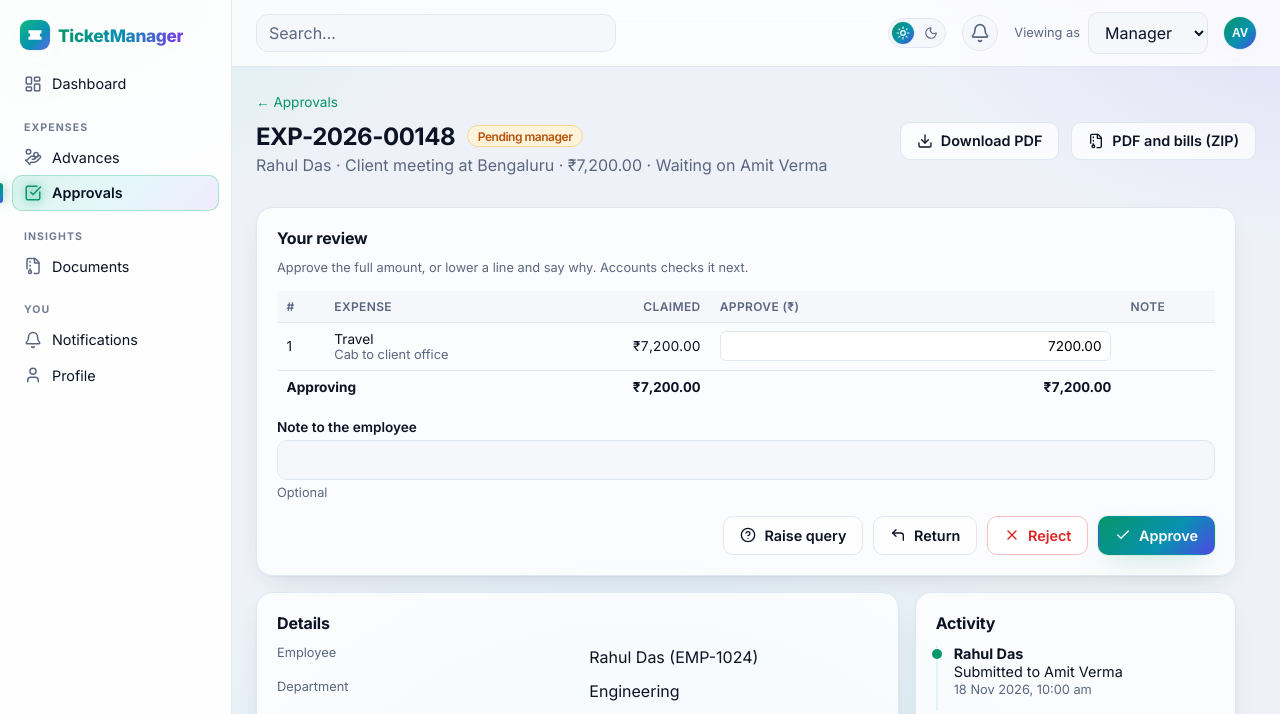
Scenario: Approvals › approves a lower amount with a note
Replace the text in the field named "Approved amount for line 1" with "5000" at (915, 346), box [720,331,1111,362]
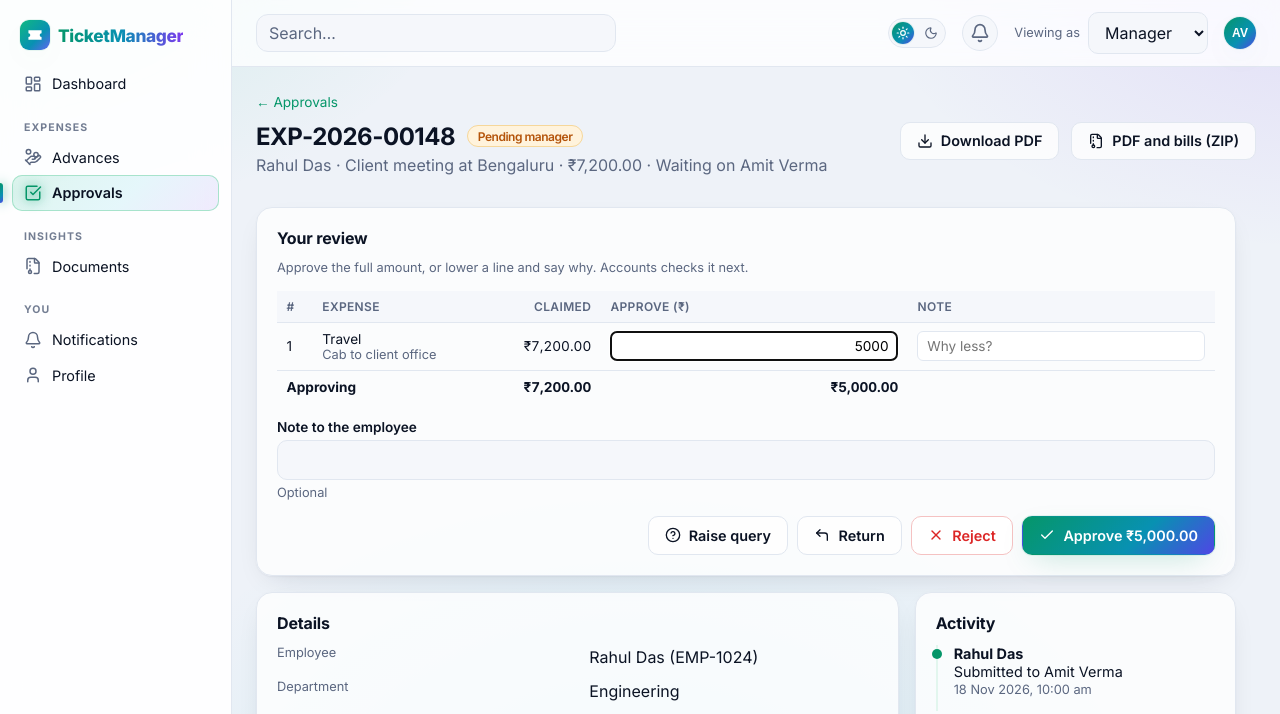
Type "Cab capped" into the field named "Why line 1 is reduced".
click(1061, 346); type("Cab capped")  # box [918,331,1205,362]
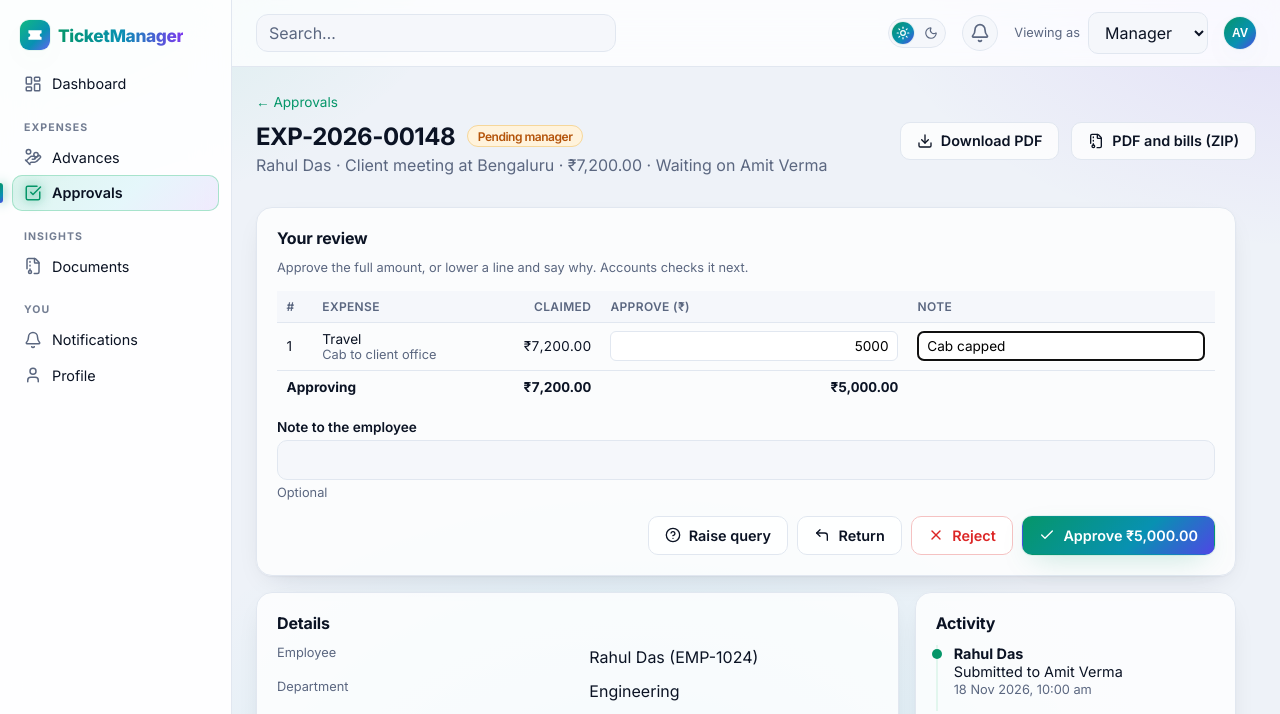
Click the button "Approve ₹5,000.00".
click(1119, 536)  # box [1022,516,1215,555]
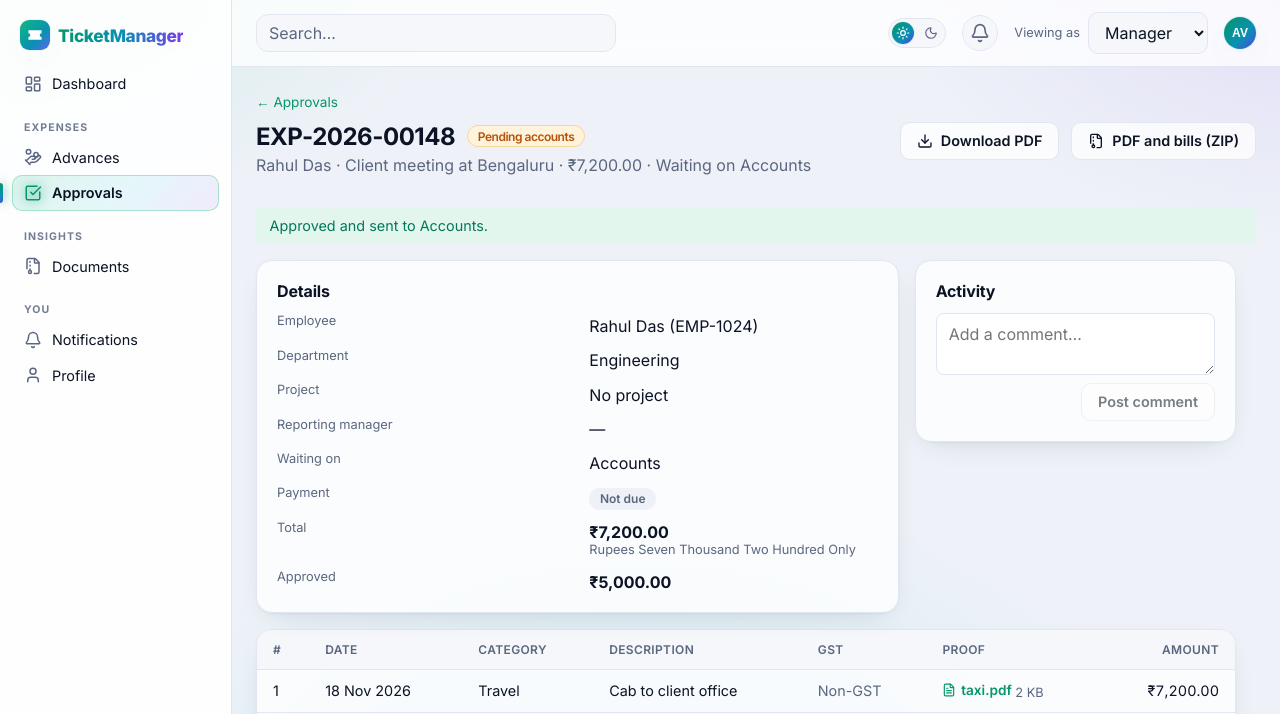
Now the text "Approved and sent to Accounts." is shown, box [256,207,1256,244]
